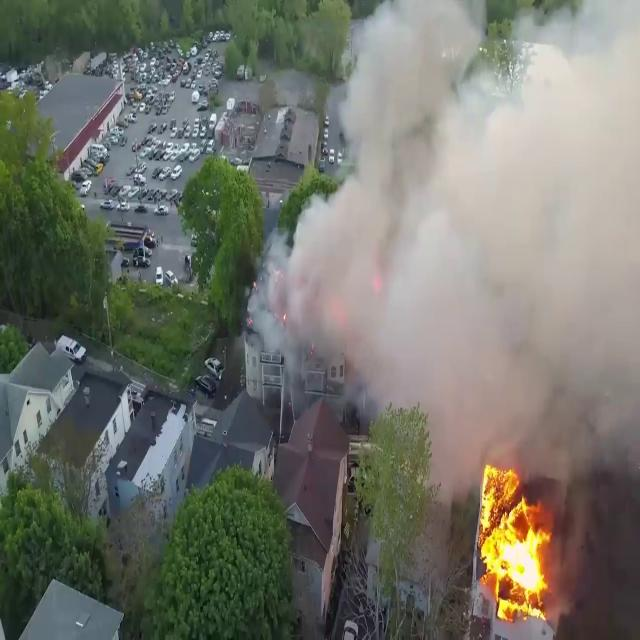Fire: (469, 459, 558, 619)
Smoke: (256, 0, 640, 479)
